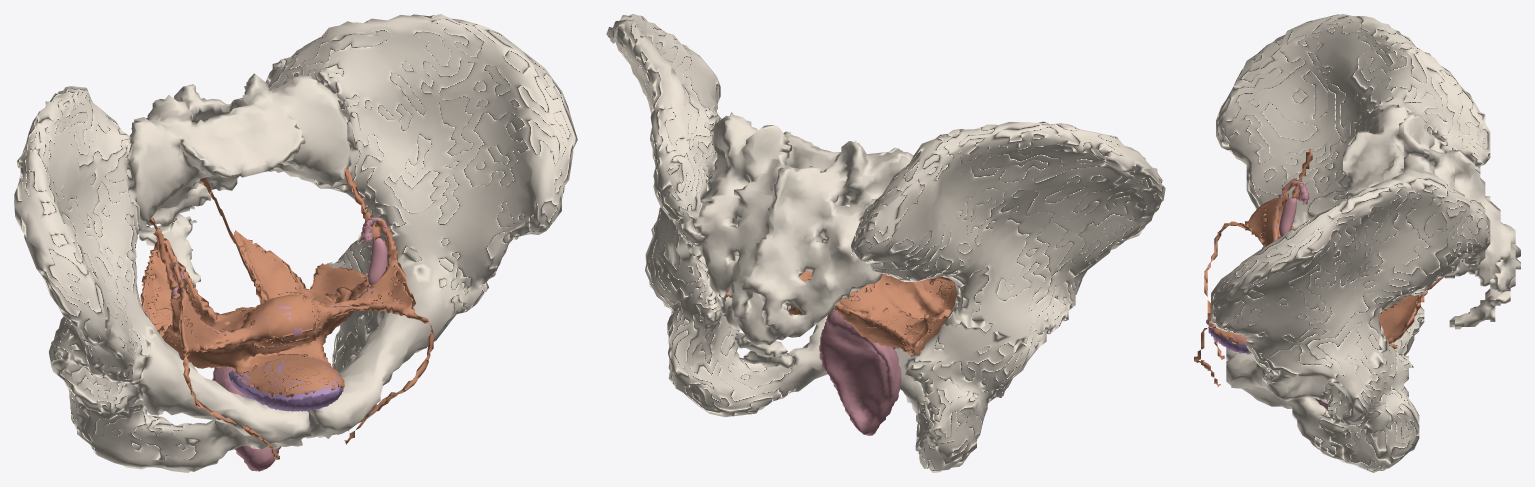
The model's file is obgin.glb.
The picture shows the model from 3 angles, left to right: view 1: azimuth 30°, elevation 25°; view 2: azimuth 150°, elevation 25°; view 3: azimuth 270°, elevation 25°; orthographic projection. The views are drawn at different scales.
Visible parts, largest first — view 1: Female bony pelvis, Ligaments of uterus and ovaries, Urinary bladder, Vagina, Left ovary; view 2: Female bony pelvis, Ligaments of uterus and ovaries, Vagina; view 3: Female bony pelvis, Ligaments of uterus and ovaries, Right ovary, Urinary bladder.
Part boxes in pixels (<box>): Female bony pelvis: <box>14,14,577,472</box>; Ligaments of uterus and ovaries: <box>140,168,433,459</box>; Urinary bladder: <box>228,361,343,411</box>; Vagina: <box>212,366,281,471</box>; Left ovary: <box>368,238,387,285</box>; Female bony pelvis: <box>606,14,1165,472</box>; Ligaments of uterus and ovaries: <box>726,242,957,354</box>; Vagina: <box>819,311,901,435</box>; Female bony pelvis: <box>1211,14,1520,472</box>; Ligaments of uterus and ovaries: <box>1194,149,1444,386</box>; Right ovary: <box>1279,197,1296,236</box>; Urinary bladder: <box>1206,318,1250,354</box>.
Size of the model in its own units: 2 by 1.37 by 1.21.
